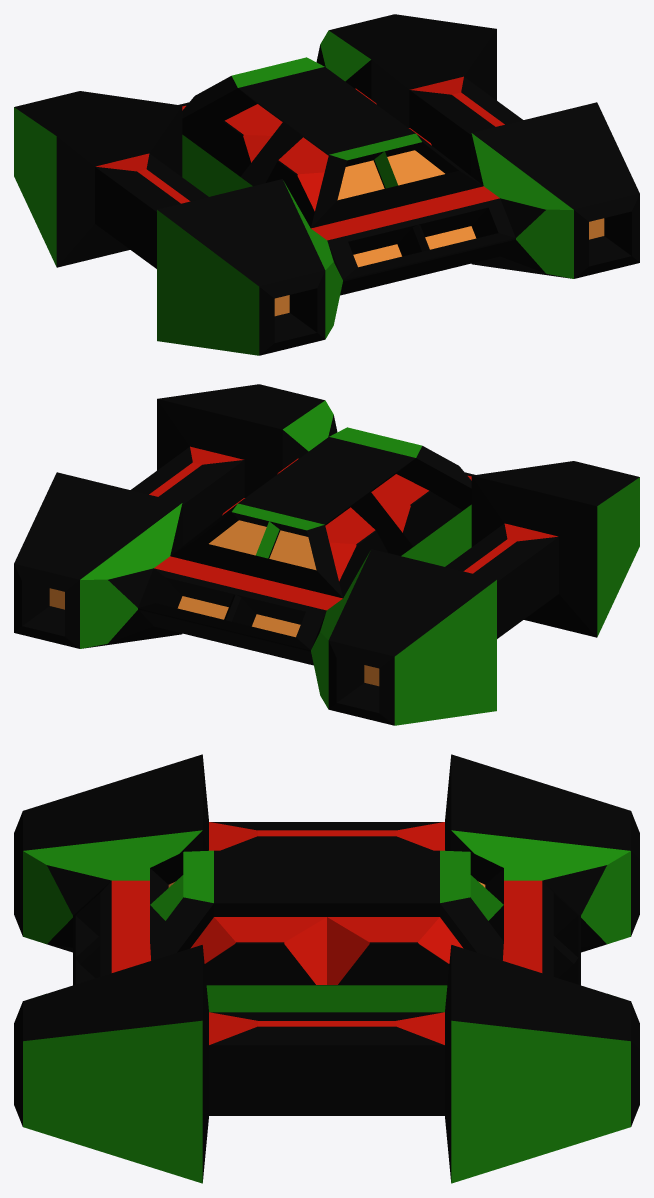
The model's file is spaceship3.fbx.
3 views of the same model, one above another, from view 1: azimuth 30°, elevation 25°; view 2: azimuth 150°, elevation 25°; view 3: azimuth 270°, elevation 25° (orthographic). The views are drawn at different scales.
Visible parts, largest first — view 1: Cube; view 2: Cube; view 3: Cube.
Boxes of the visible parts, x1,y1,x2,y2 form: Cube: [14, 14, 639, 355]; Cube: [14, 384, 639, 725]; Cube: [14, 754, 639, 1183].
Size of the model in its own units: 701 by 216 by 696.
